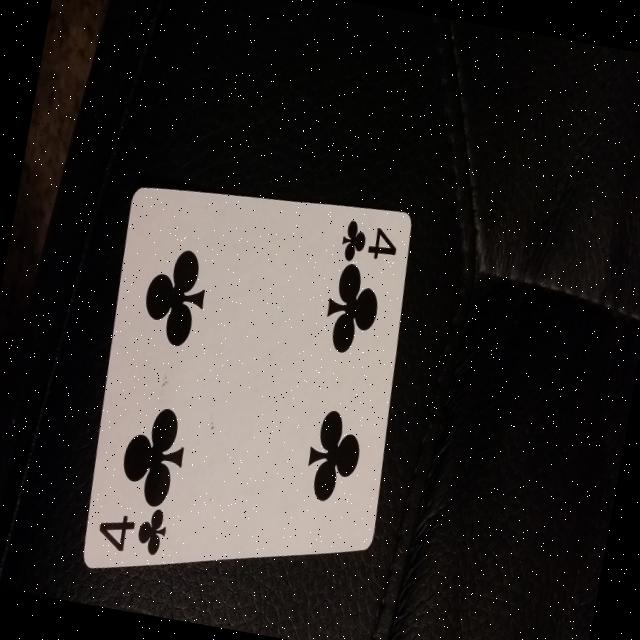4c: (82, 480, 178, 582), (330, 194, 411, 284)
